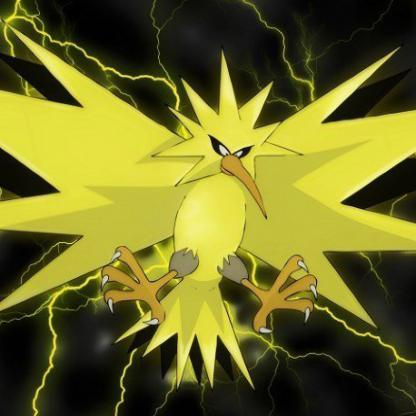Zapdos: (1, 12, 416, 397)
